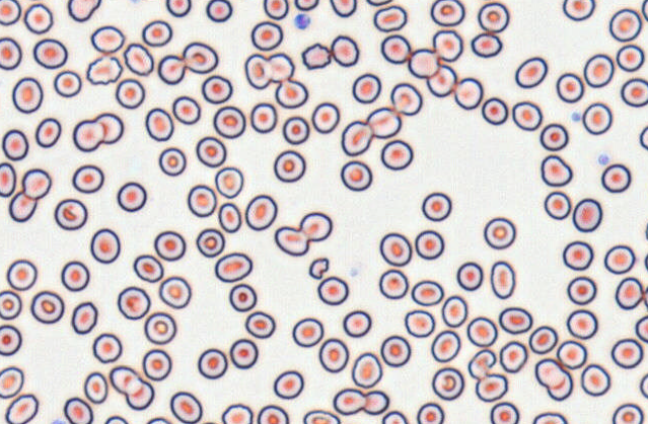PLT: (293, 12, 313, 30), (596, 151, 611, 167), (571, 110, 582, 121)
RBC: (534, 358, 573, 401), (244, 194, 277, 230), (340, 119, 372, 156), (11, 76, 43, 113), (214, 251, 252, 282), (30, 290, 64, 324), (182, 41, 218, 73), (609, 8, 642, 42), (117, 286, 150, 320), (158, 275, 191, 309), (379, 232, 412, 266), (366, 106, 401, 138), (351, 352, 382, 388), (431, 367, 464, 400), (143, 311, 176, 344), (212, 105, 245, 138), (483, 216, 516, 249), (274, 225, 309, 256), (32, 38, 67, 69), (583, 53, 614, 88), (86, 55, 122, 85), (318, 337, 348, 373), (72, 119, 104, 152), (169, 391, 202, 423), (390, 82, 422, 115), (54, 198, 87, 230), (540, 154, 572, 187), (514, 56, 547, 88), (273, 149, 305, 182), (90, 228, 120, 263), (477, 1, 509, 33), (426, 64, 457, 97), (580, 363, 611, 396), (432, 29, 463, 62), (610, 338, 643, 369), (6, 258, 37, 291), (380, 334, 411, 367), (380, 139, 413, 170), (5, 393, 39, 423), (582, 101, 612, 135), (572, 198, 602, 232), (90, 25, 125, 54), (244, 53, 272, 89), (407, 47, 439, 78), (340, 160, 372, 191), (153, 230, 185, 261), (124, 377, 154, 410), (299, 211, 332, 241), (275, 78, 308, 108), (123, 42, 153, 75), (250, 20, 283, 50), (430, 329, 460, 362), (187, 184, 217, 217), (142, 348, 172, 381), (614, 276, 643, 310), (145, 107, 174, 141), (490, 260, 515, 299), (195, 136, 226, 167), (466, 316, 497, 347), (511, 100, 542, 131), (93, 112, 123, 144), (23, 2, 53, 34), (566, 309, 598, 339), (603, 244, 635, 274), (475, 373, 508, 402), (330, 34, 359, 67), (454, 77, 483, 110), (71, 164, 104, 193), (373, 4, 407, 32), (498, 306, 532, 334), (21, 168, 51, 199), (556, 339, 587, 369), (60, 260, 90, 291), (115, 78, 145, 109), (380, 34, 411, 64), (317, 275, 348, 305), (378, 268, 408, 299), (201, 74, 232, 104), (351, 72, 381, 103), (292, 317, 323, 347), (197, 348, 227, 379), (92, 332, 122, 363), (562, 240, 593, 270), (116, 181, 146, 212), (8, 190, 37, 222), (311, 101, 340, 133), (214, 166, 243, 198), (332, 387, 365, 415), (499, 340, 527, 373), (70, 301, 98, 334), (430, 0, 465, 26), (195, 227, 225, 257), (601, 163, 631, 193), (414, 229, 444, 259), (421, 191, 451, 221), (109, 365, 140, 394), (467, 348, 496, 379), (132, 253, 163, 282), (273, 370, 304, 399), (555, 72, 584, 103), (229, 338, 258, 369), (157, 54, 186, 84), (566, 276, 596, 305), (404, 309, 435, 337), (244, 310, 275, 338), (249, 102, 277, 133), (1, 128, 28, 160), (411, 279, 443, 306), (528, 325, 557, 354), (539, 122, 568, 151), (543, 190, 571, 220), (158, 146, 186, 176), (141, 19, 172, 46), (34, 117, 61, 148), (470, 32, 502, 58), (441, 295, 467, 327), (83, 371, 108, 404), (228, 283, 256, 312), (172, 95, 200, 124), (342, 309, 371, 337), (267, 52, 294, 82), (301, 42, 331, 69), (620, 77, 647, 107), (456, 261, 483, 291), (0, 365, 24, 398), (53, 69, 81, 97), (616, 44, 644, 72), (282, 115, 309, 144), (481, 96, 508, 125), (63, 397, 93, 423), (67, 0, 101, 22), (0, 36, 22, 70), (217, 202, 241, 233), (0, 324, 22, 356), (562, 0, 595, 21), (0, 289, 22, 320), (611, 402, 643, 423), (489, 401, 519, 423), (363, 390, 389, 415), (221, 403, 253, 423), (256, 404, 289, 423), (205, 0, 232, 22), (416, 402, 444, 423), (0, 161, 16, 197), (302, 409, 340, 423), (0, 0, 21, 25), (263, 0, 288, 20), (329, 0, 356, 17), (165, 0, 191, 17), (532, 411, 567, 423), (381, 410, 408, 423), (635, 315, 647, 343), (294, 0, 319, 11), (639, 372, 647, 399), (639, 125, 647, 150), (104, 415, 128, 423), (145, 416, 171, 423), (366, 0, 392, 6), (641, 0, 648, 21), (643, 284, 648, 308), (50, 418, 68, 424), (199, 420, 220, 424), (644, 252, 648, 271), (645, 219, 648, 241)
Schistocyte: (308, 258, 329, 279)
